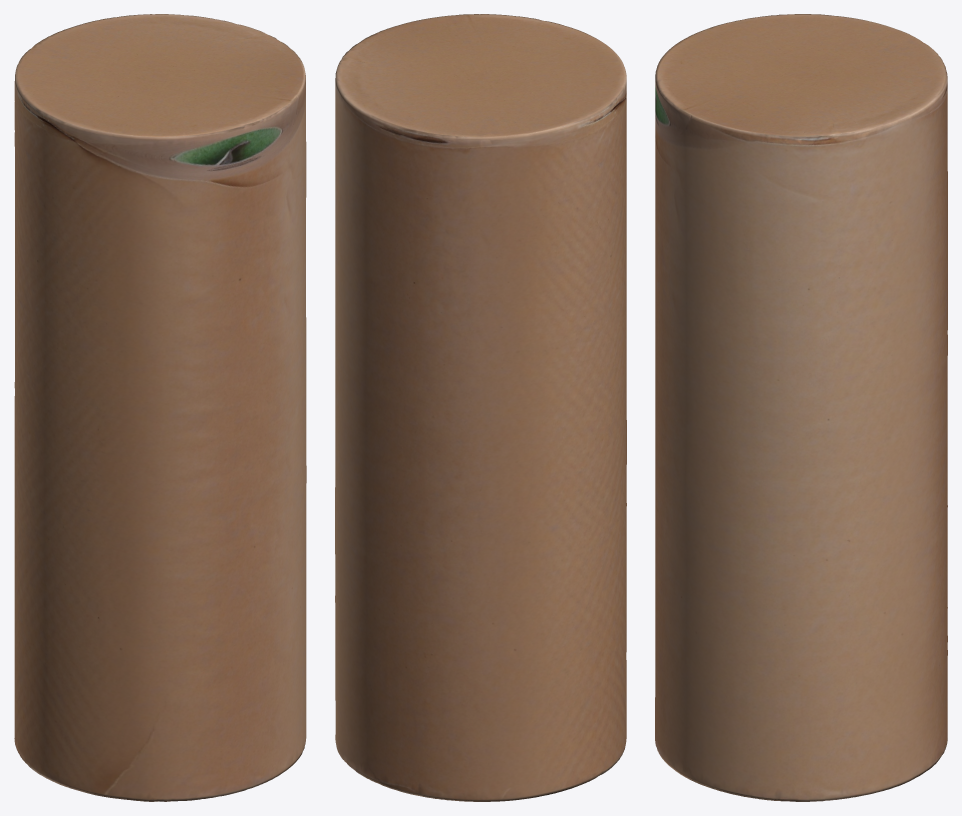
The model's file is paperreel.gltf.
3 renders of one model, left to right at view 1: azimuth 30°, elevation 25°; view 2: azimuth 150°, elevation 25°; view 3: azimuth 270°, elevation 25°, orthographic.
Parts seen in each view (by area): view 1: Mesh_0; view 2: Mesh_0; view 3: Mesh_0.
Boxes of the visible parts, <box> form: Mesh_0: <box>14,14,306,801</box>; Mesh_0: <box>335,14,626,801</box>; Mesh_0: <box>655,14,947,801</box>.
Size of the model in its own units: 0.797 by 2 by 0.7985.
1 material, 1 textured.
